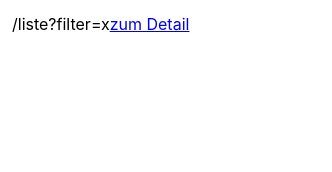
ZurueckLink › returns to the page the user came from, labelled "Zurück"
Click the link "zum Detail" at [150, 24], box [110, 14, 189, 34]
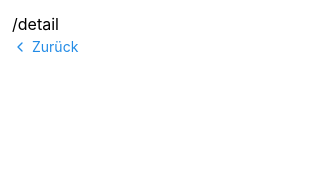
Expected: the text "/detail" is shown, [12, 14, 59, 34]
Expected: the link "Zurück" is shown
Click the link "Zurück" at [45, 46], box [12, 38, 78, 55]
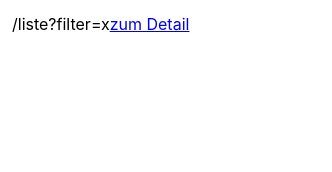
Expected: the text "/liste?filter=x" is shown, [12, 14, 110, 34]
